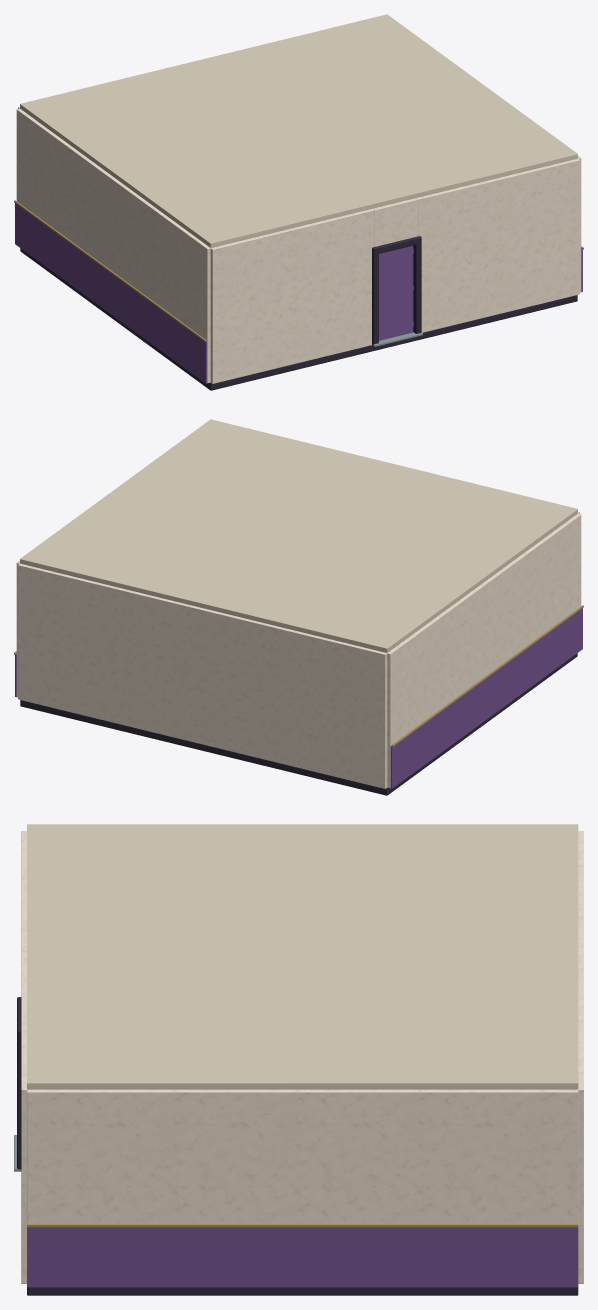
The model's file is mirror_workbay.glb.
3 views of the same model, one above another, from view 1: azimuth 30°, elevation 25°; view 2: azimuth 150°, elevation 25°; view 3: azimuth 270°, elevation 25° (orthographic). The views are drawn at different scales.
Parts seen in each view (by area): view 1: ceiling.017, wall.045, wall.044, wall.047, lower_panel.046, mirror_workbay_floor, front.021_leaf, door_lintel.011, front.021_jamb, panel_rail.046, front.021_jamb.001; view 2: ceiling.017, wall.046, wall.047, lower_panel.046, mirror_workbay_floor, panel_rail.046; view 3: ceiling.017, wall.048, lower_panel.047, mirror_workbay_floor, wall.046, panel_rail.047, wall.044, wall.045, front.021_jamb.
Boxes of the visible parts, bbox=[...] form: ceiling.017: bbox=[20, 14, 577, 247]; wall.045: bbox=[210, 208, 374, 383]; wall.044: bbox=[416, 158, 579, 332]; wall.047: bbox=[16, 108, 210, 383]; lower_panel.046: bbox=[15, 203, 207, 383]; mirror_workbay_floor: bbox=[20, 248, 577, 390]; front.021_leaf: bbox=[379, 245, 413, 340]; door_lintel.011: bbox=[373, 198, 417, 246]; front.021_jamb: bbox=[413, 241, 421, 333]; panel_rail.046: bbox=[14, 200, 206, 341]; front.021_jamb.001: bbox=[372, 251, 378, 344]; ceiling.017: bbox=[20, 419, 577, 652]; wall.046: bbox=[18, 563, 387, 788]; wall.047: bbox=[387, 513, 581, 788]; lower_panel.046: bbox=[390, 608, 582, 788]; mirror_workbay_floor: bbox=[20, 653, 577, 795]; panel_rail.046: bbox=[391, 605, 583, 746]; ceiling.017: bbox=[27, 824, 578, 1089]; wall.048: bbox=[27, 1089, 578, 1223]; lower_panel.047: bbox=[27, 1227, 578, 1287]; mirror_workbay_floor: bbox=[27, 1287, 578, 1295]; wall.046: bbox=[578, 831, 583, 1283]; panel_rail.047: bbox=[27, 1224, 578, 1227]; wall.044: bbox=[21, 975, 26, 1283]; wall.045: bbox=[21, 831, 26, 945]; front.021_jamb: bbox=[17, 1036, 21, 1169].
Bounding box in the file's own units: 10.32 × 3.84 × 9.3.
Materials: 10 (3 with a texture image).
